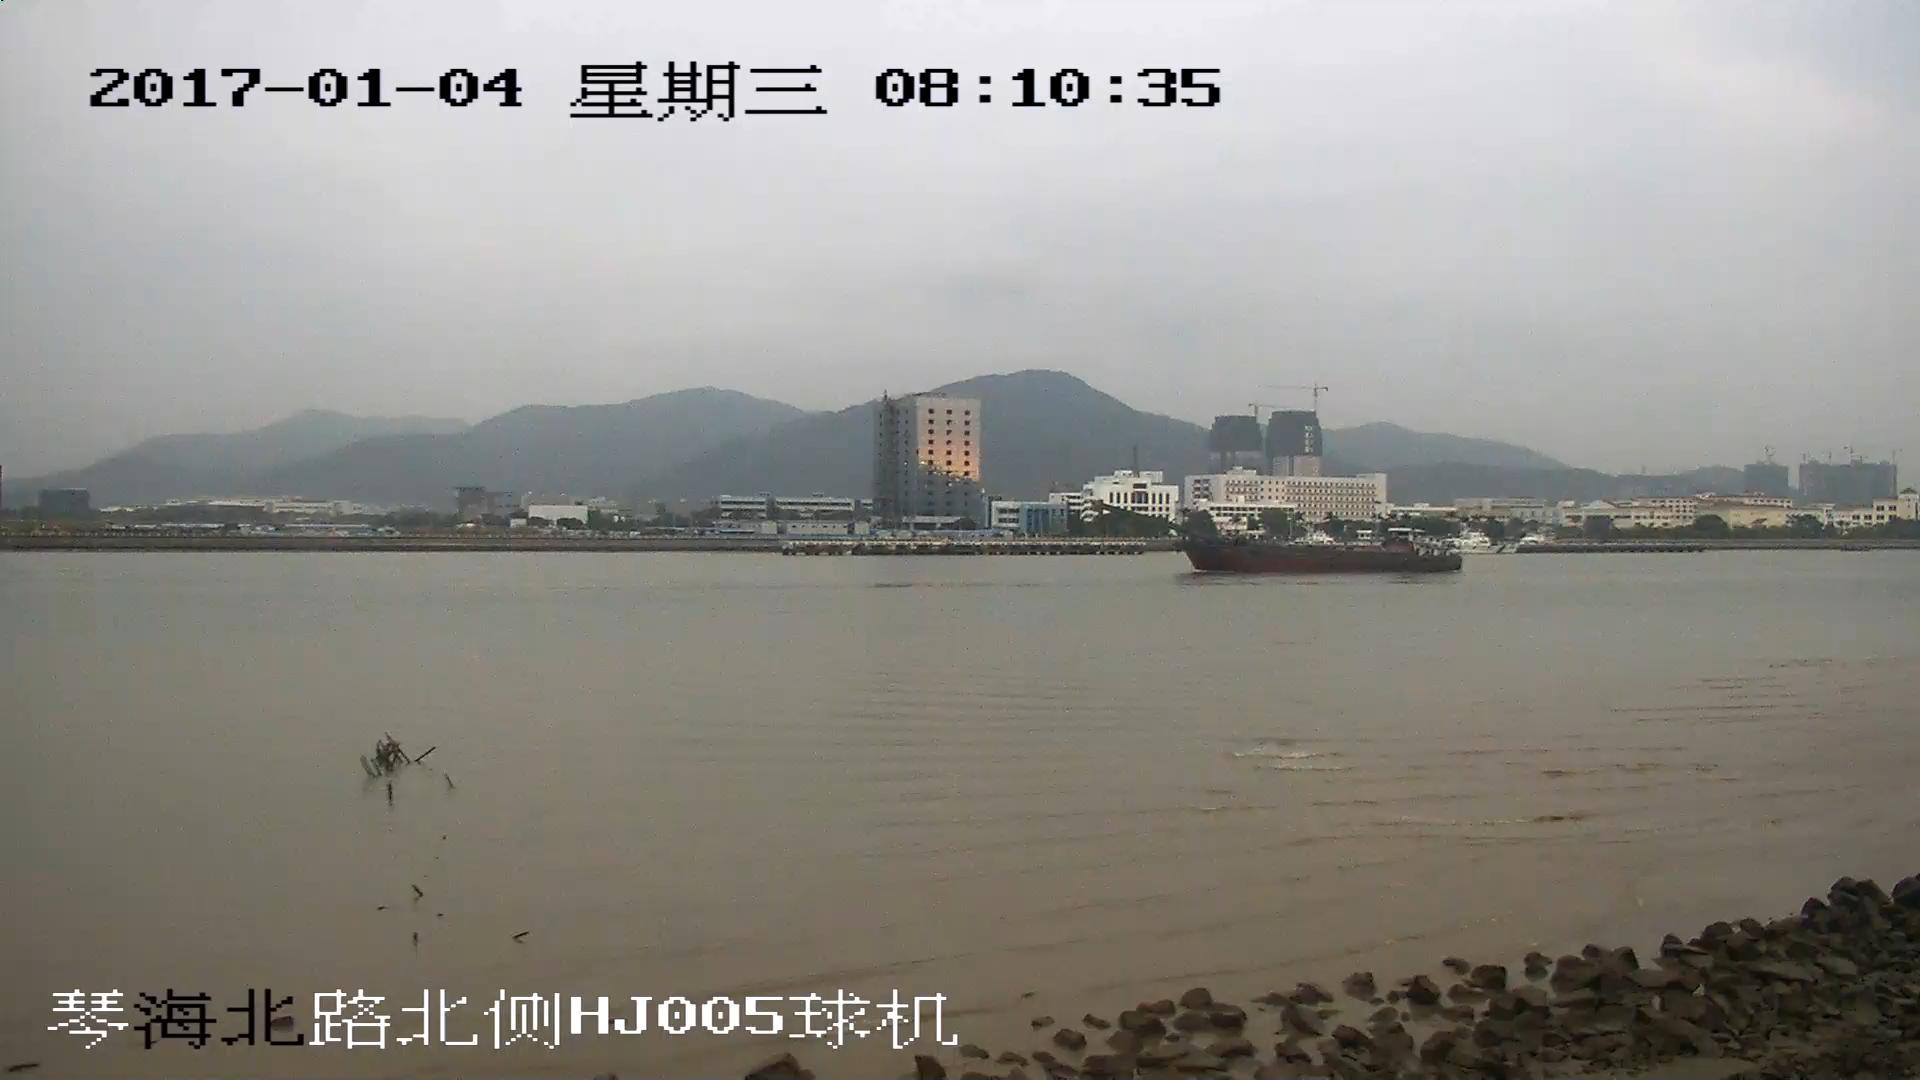Ship: (1097, 501, 1465, 571)
